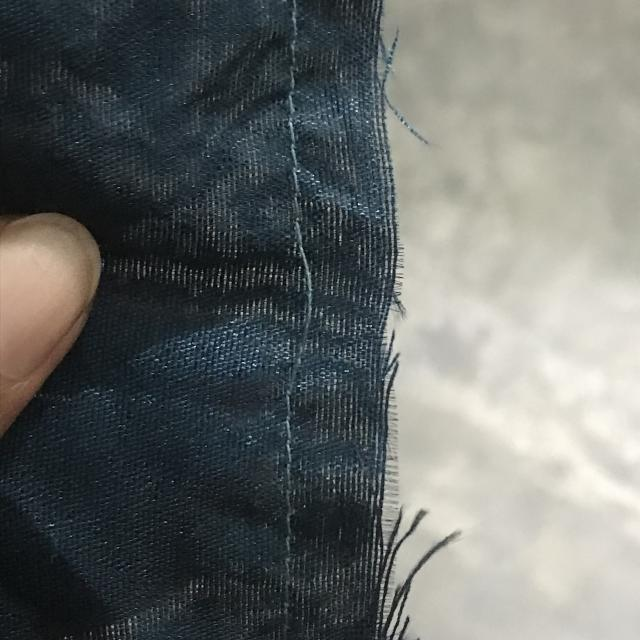skip: (282, 217, 330, 408)
